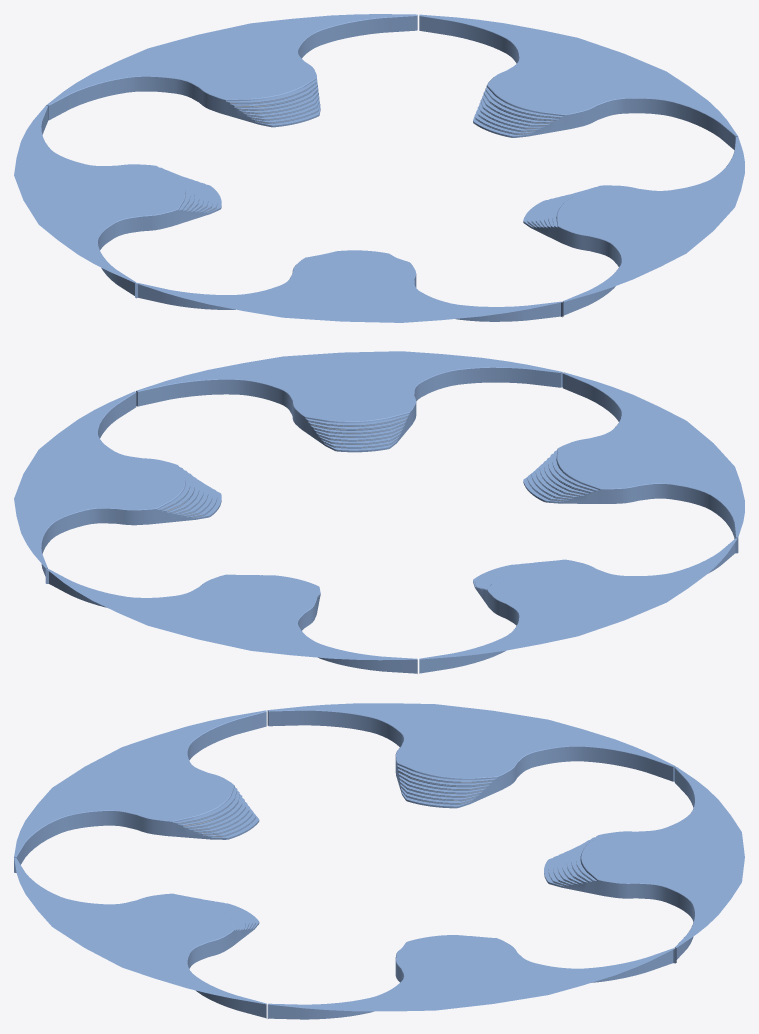
The model's file is Mp_Platform_01_PLACE.fbx.
3 views of the same model, one above another, from view 1: azimuth 30°, elevation 25°; view 2: azimuth 150°, elevation 25°; view 3: azimuth 270°, elevation 25° (orthographic).
Visible parts, largest first — view 1: Mp_Platform_01.001; view 2: Mp_Platform_01.001; view 3: Mp_Platform_01.001.
Part boxes in pixels (bbox=[...]): Mp_Platform_01.001: bbox=[14, 14, 744, 322]; Mp_Platform_01.001: bbox=[14, 351, 744, 673]; Mp_Platform_01.001: bbox=[14, 703, 744, 1019].
Size of the model in its own units: 3968 by 90.78 by 3979.
